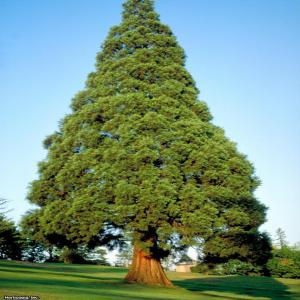Tree: (25, 3, 273, 286)
